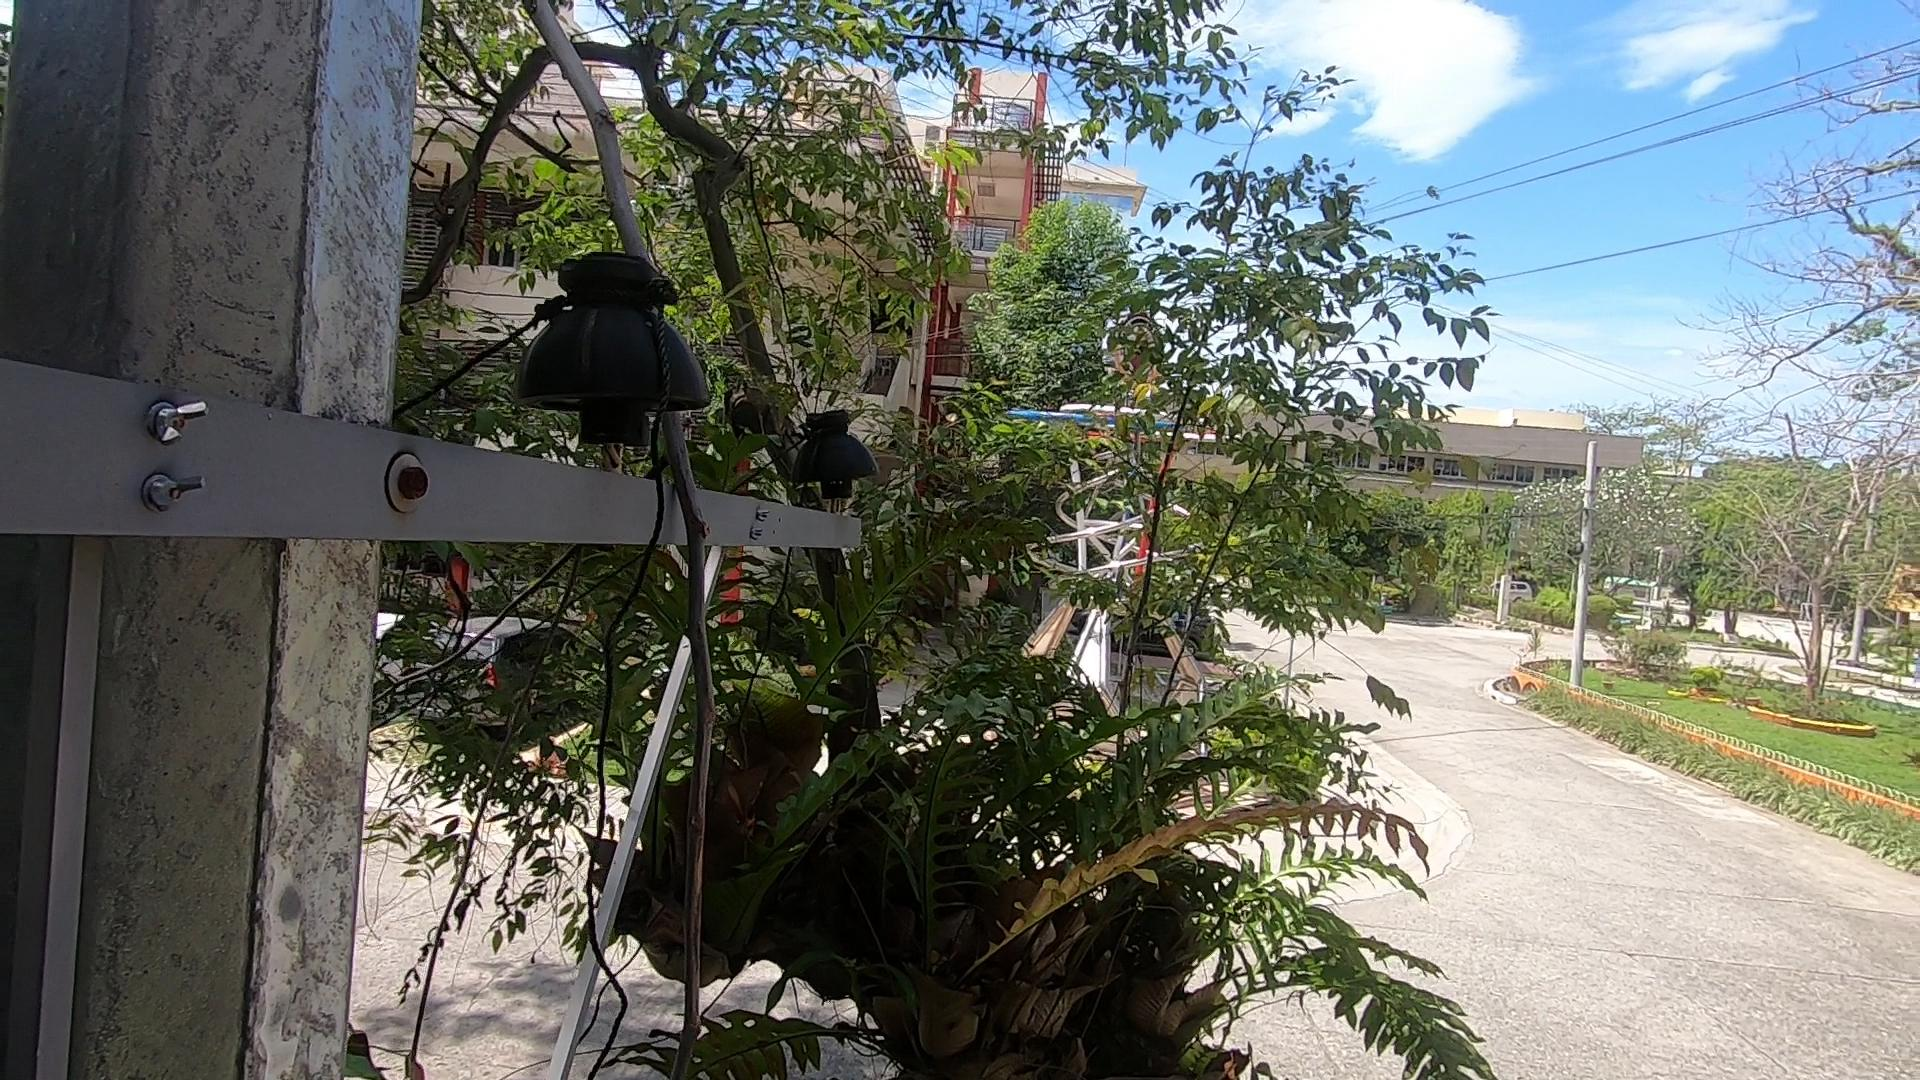tree branch: (447, 5, 851, 1065)
